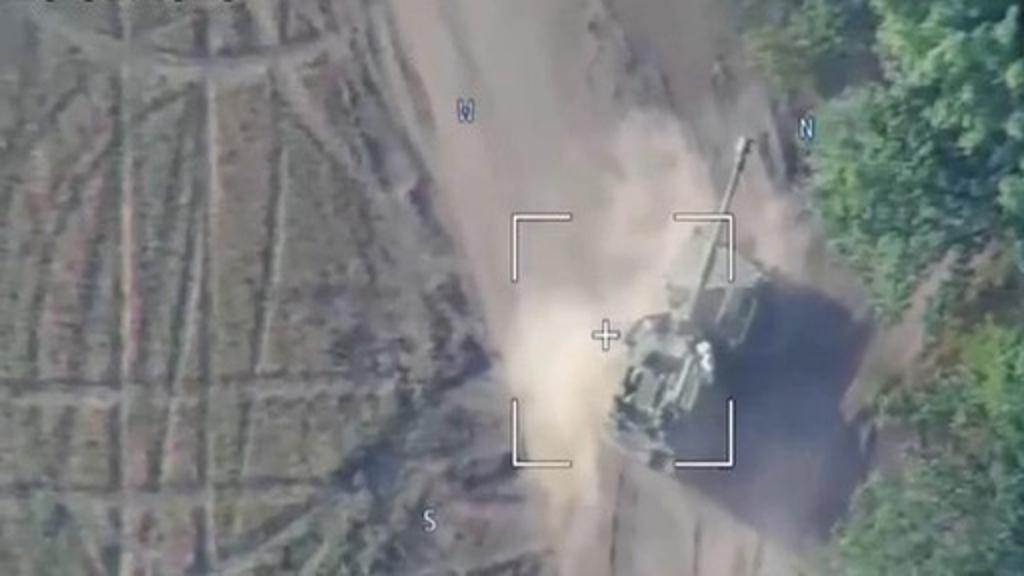ART: (592, 134, 772, 458)
